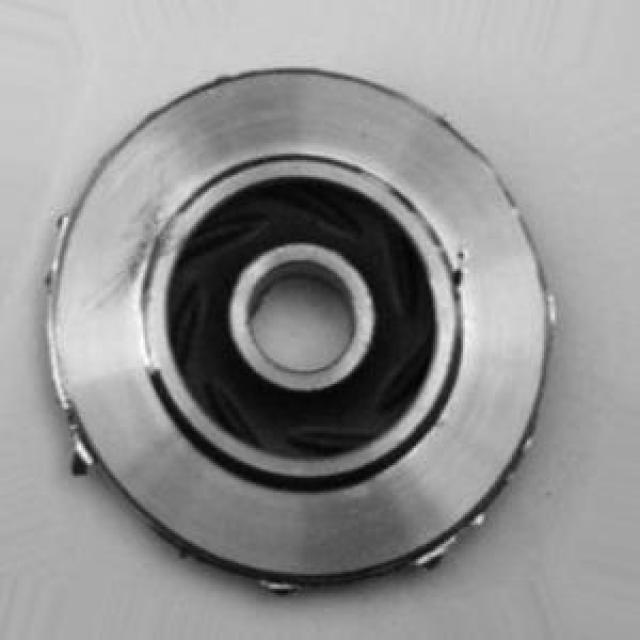Defect: (445, 247, 476, 301)
